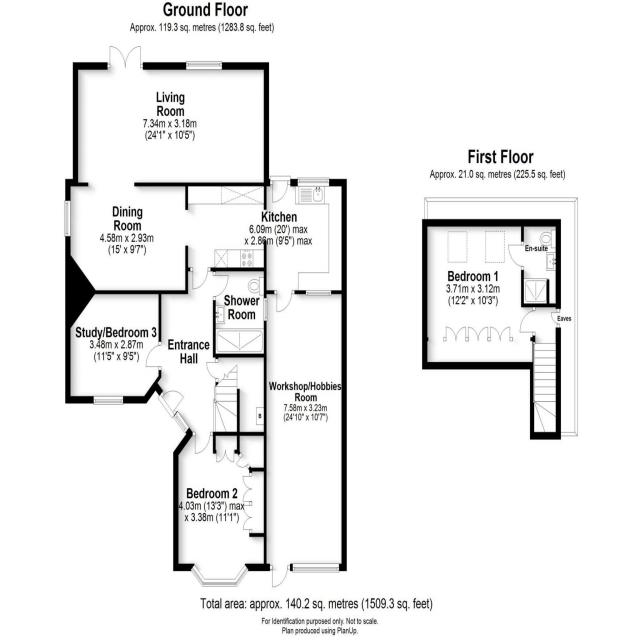DOOR: (157, 390, 184, 419), (269, 175, 291, 204), (192, 431, 214, 455), (145, 341, 162, 371), (269, 565, 291, 588), (508, 240, 524, 271), (519, 306, 535, 337), (190, 267, 211, 290), (274, 290, 295, 313), (213, 271, 229, 301)
DOUBLE DOOR: (109, 43, 143, 70)
ROOM: (64, 175, 347, 313), (73, 45, 269, 187), (264, 290, 347, 588), (422, 219, 535, 370), (173, 429, 267, 587), (65, 290, 162, 406)
WINDOW: (190, 564, 249, 587), (292, 563, 340, 573), (173, 411, 190, 434), (297, 176, 330, 187), (186, 61, 222, 70), (93, 396, 123, 405), (64, 200, 71, 237), (305, 290, 332, 296), (263, 298, 268, 321)
